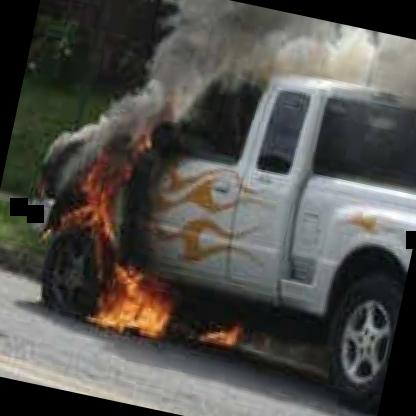fire: (11, 59, 221, 349)
